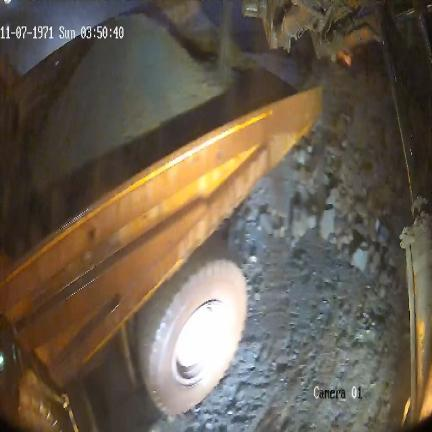pile: (222, 55, 411, 355), (30, 15, 243, 197)
